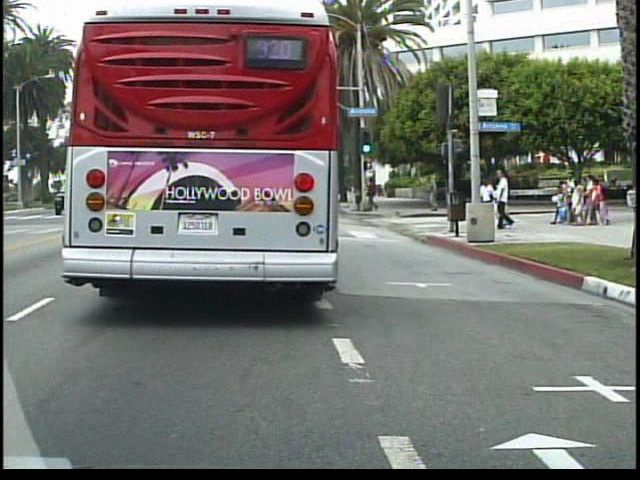person: (493, 165, 518, 235), (477, 173, 499, 227), (365, 175, 385, 215), (426, 173, 444, 214)
